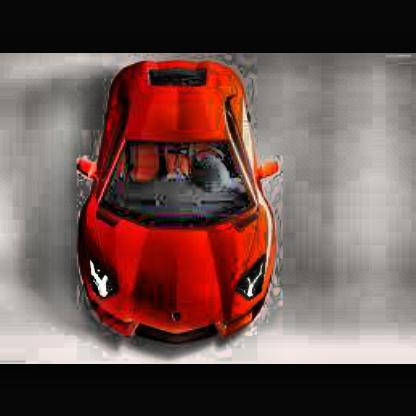Lamborghini Aventador Coupe 2012: (54, 54, 294, 362)
